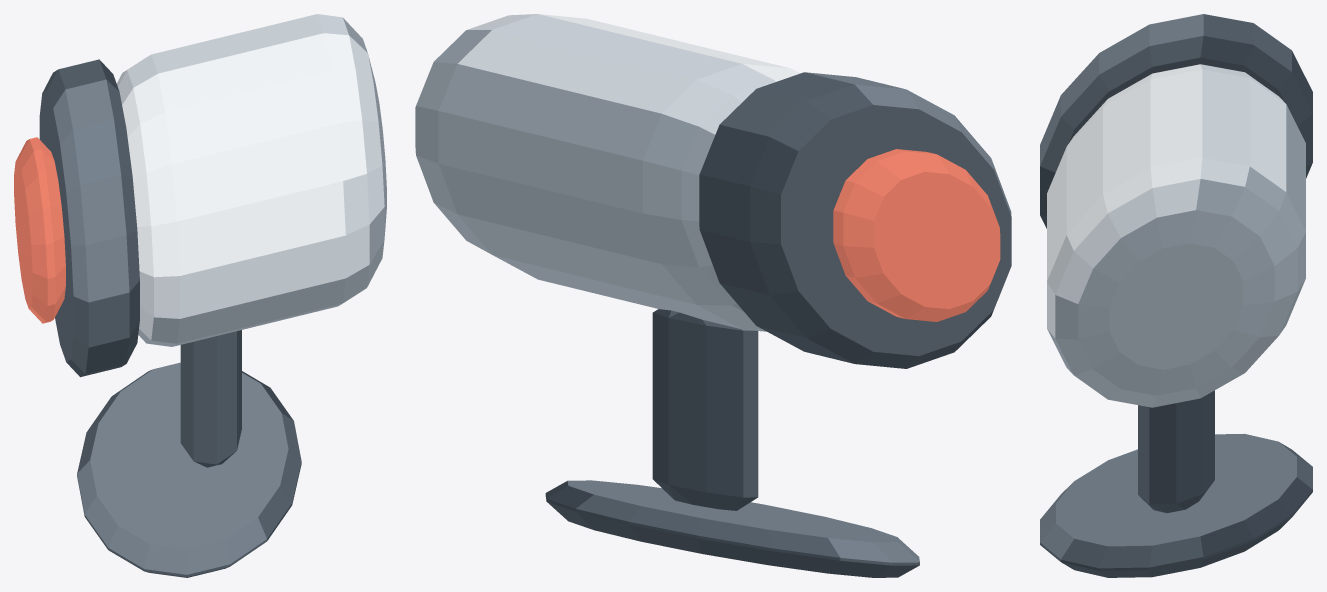
Rendered from Laser_Left.gltf.
3 renders of one model, left to right at view 1: azimuth 30°, elevation 25°; view 2: azimuth 150°, elevation 25°; view 3: azimuth 270°, elevation 25°, orthographic. The views are drawn at different scales.
Visible parts, largest first — view 1: Laser_Left_baked; view 2: Laser_Left_baked; view 3: Laser_Left_baked.
Boxes of the visible parts, left/top/right/bottom form: Laser_Left_baked: left=14, top=14, right=386, bottom=577; Laser_Left_baked: left=415, top=14, right=1011, bottom=577; Laser_Left_baked: left=1040, top=14, right=1312, bottom=577.
Size of the model in its own units: 0.7224 by 0.781 by 0.3923.
